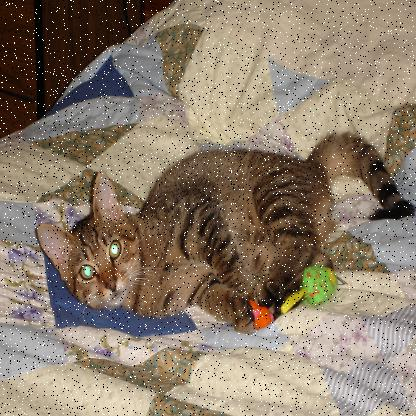cat: (21, 132, 416, 334)
